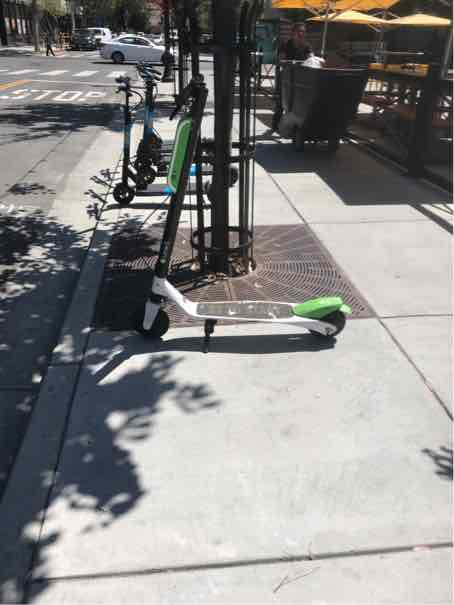scooter: (138, 99, 357, 350)
